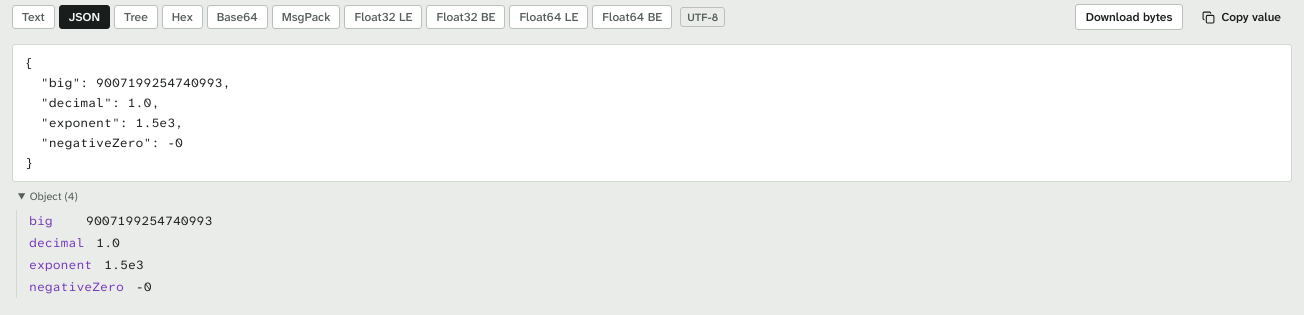
web review round 2 › H1: inspector and console trees render exact numbers
The width and height of the screenshot is (1304, 315).
Expected: the text "9007199254740993" is shown, [86, 211, 212, 231]
Click the tab "Tree" at {"x": 136, "y": 17}, box [114, 5, 158, 29]
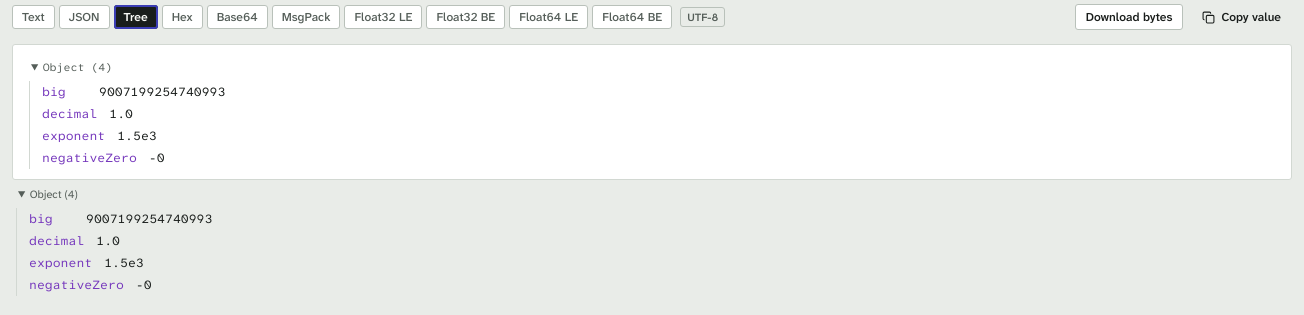
Expected: the text "1.5e3" is shown 2 times, [117, 126, 157, 146]; [104, 253, 144, 273]
